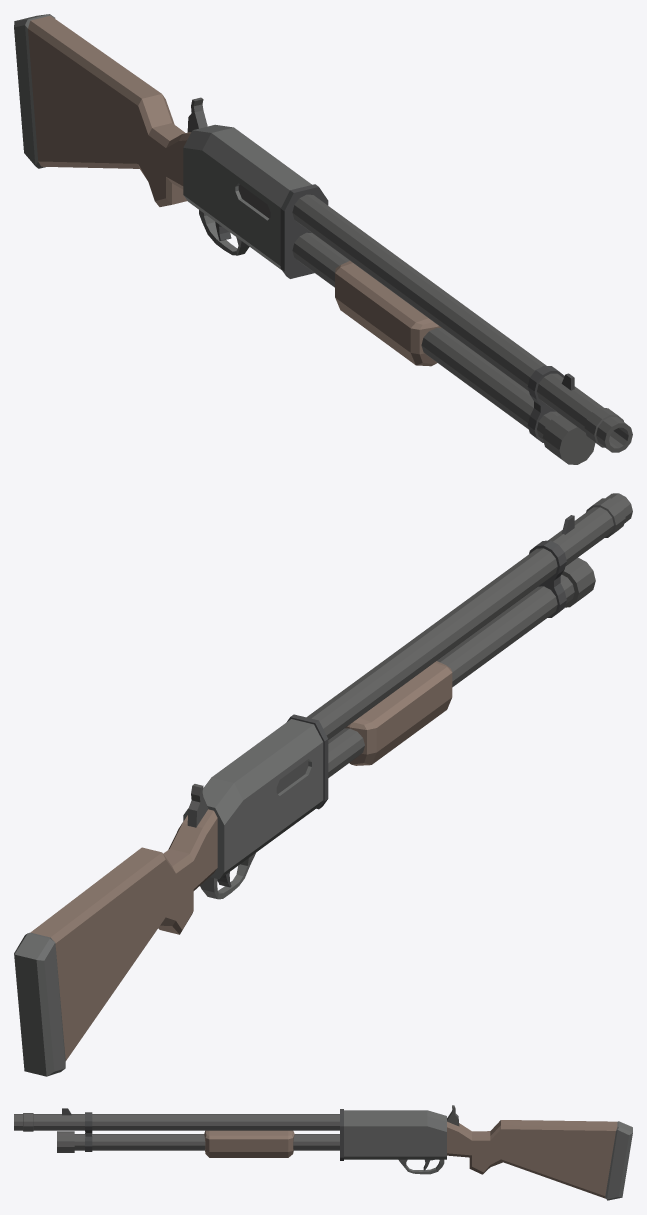
Rendered from pompe-1.glb.
3 views of the same model, one above another, from view 1: azimuth 30°, elevation 25°; view 2: azimuth 150°, elevation 25°; view 3: azimuth 270°, elevation 25° (orthographic). The views are drawn at different scales.
Parts seen in each view (by area): view 1: Shotgun_3; view 2: Shotgun_3; view 3: Shotgun_3.
Boxes of the visible parts, x1,y1,x2,y2 form: Shotgun_3: (14,14,632,464); Shotgun_3: (14,493,632,1076); Shotgun_3: (14,1105,632,1200).
Size of the model in its own units: 0.0426 by 0.163 by 1.
